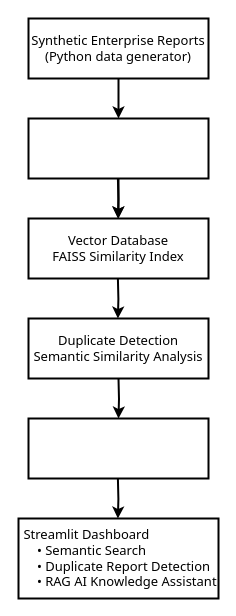
Some shapes in this 236 by 616 pixel diagram are drawn without their labels. Here are the shapes that lost their labels. From the top down, the box of each, then its label:
(27, 117, 209, 179): Text Embeddings Sentence Transformers (all-MiniLM-L6-v2)
(27, 417, 209, 479): Business Intelligence Layer ROI Analysis Cost of Knowledge Duplication
